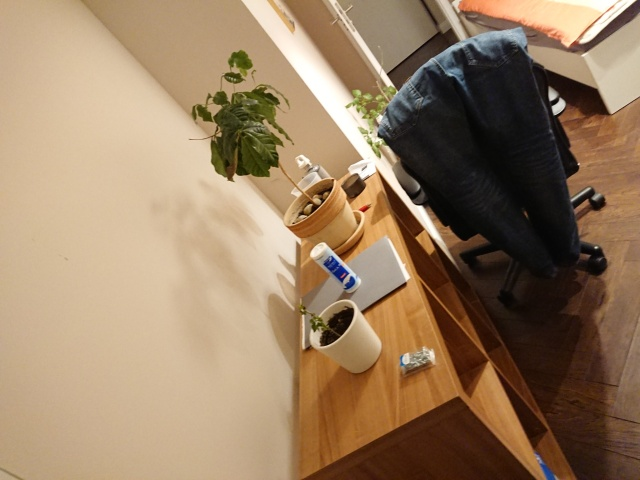Solana Pag Fine Sea Salt 250g: (306, 239, 367, 298)
